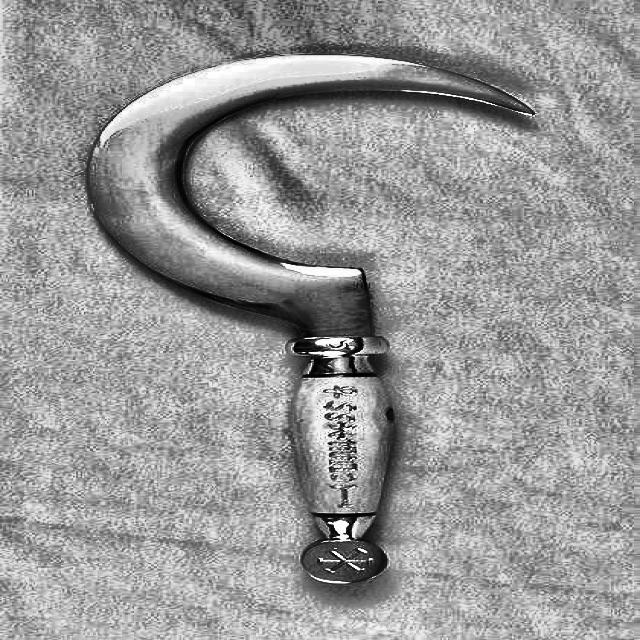celurit: (67, 32, 570, 594)
